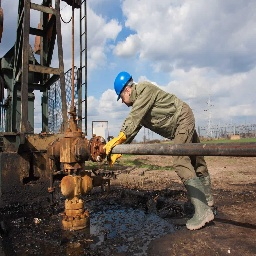helmet: (110, 70, 133, 97)
no-vest: (136, 78, 194, 144)
person: (100, 65, 220, 238)
